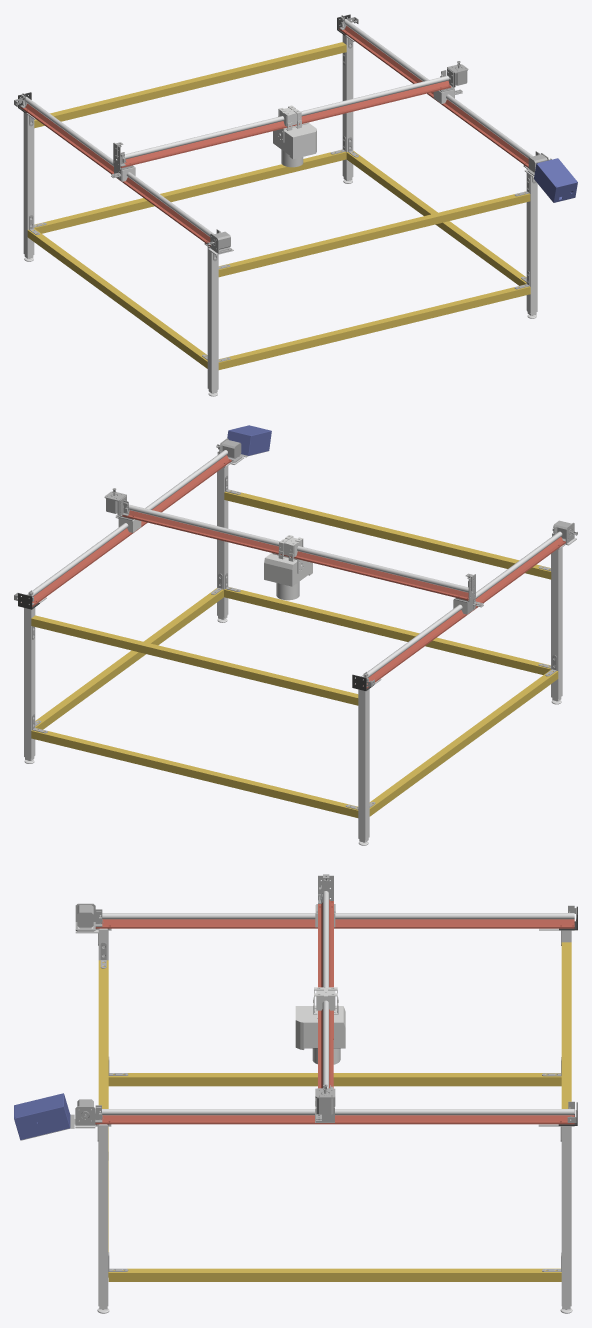
3 views of the same model, one above another, from view 1: azimuth 30°, elevation 25°; view 2: azimuth 150°, elevation 25°; view 3: azimuth 270°, elevation 25° (orthographic). The views are drawn at different scales.
Parts seen in each view (by area): view 1: Body1.073, Body1.074, Body1.086, Body1.085, Body1.003, Body1.080, Body1.079, Body1.004, Body1.020, Body1.024, Body1.009, Body1.015 (+7 smaller); view 2: Body1.086, Body1.085, Body1.074, Body1.073, Body1.003, Body1.080, Body1.079, Body1.004, Body1.020, Body1.015, Body1.024, Body1.017 (+6 smaller); view 3: Body1.079, Body1.080, Body1.020, Body1.024, Body1.021, Body1.025, Body1.017, Body1.002, Body1.086, Body1.027, Body1.003, Body1.074 (+3 smaller).
Boxes of the visible parts, x1,y1,x2,y2 form: Body1.073: (218, 286, 530, 369); Body1.074: (218, 193, 530, 277); Body1.086: (34, 42, 346, 128); Body1.085: (34, 151, 346, 233); Body1.003: (120, 80, 451, 167); Body1.080: (27, 228, 207, 368); Body1.079: (346, 150, 526, 285); Body1.004: (117, 75, 449, 159); Body1.020: (20, 103, 210, 246); Body1.024: (339, 25, 528, 168); Body1.009: (207, 247, 218, 391); Body1.015: (23, 112, 34, 261); Body1.086: (31, 615, 358, 705); Body1.085: (31, 729, 358, 817); Body1.074: (224, 491, 551, 579); Body1.073: (224, 588, 550, 674); Body1.003: (122, 510, 468, 600); Body1.080: (369, 669, 558, 816); Body1.079: (35, 588, 223, 729); Body1.004: (127, 504, 472, 592); Body1.020: (355, 537, 565, 688); Body1.015: (358, 689, 369, 845); Body1.024: (21, 455, 231, 606); Body1.017: (24, 607, 35, 763); Body1.079: (108, 1268, 561, 1281); Body1.080: (108, 1073, 561, 1086); Body1.020: (95, 919, 574, 928); Body1.024: (95, 1115, 574, 1124); Body1.021: (100, 913, 574, 919); Body1.025: (95, 1109, 574, 1115); Body1.017: (560, 1126, 572, 1313); Body1.002: (98, 1126, 108, 1306); Body1.086: (561, 942, 571, 1108); Body1.027: (295, 1006, 345, 1064); Body1.003: (318, 899, 333, 1088); Body1.074: (98, 960, 108, 1160).
Size of the model in its own units: 129 by 65.2 by 141.
